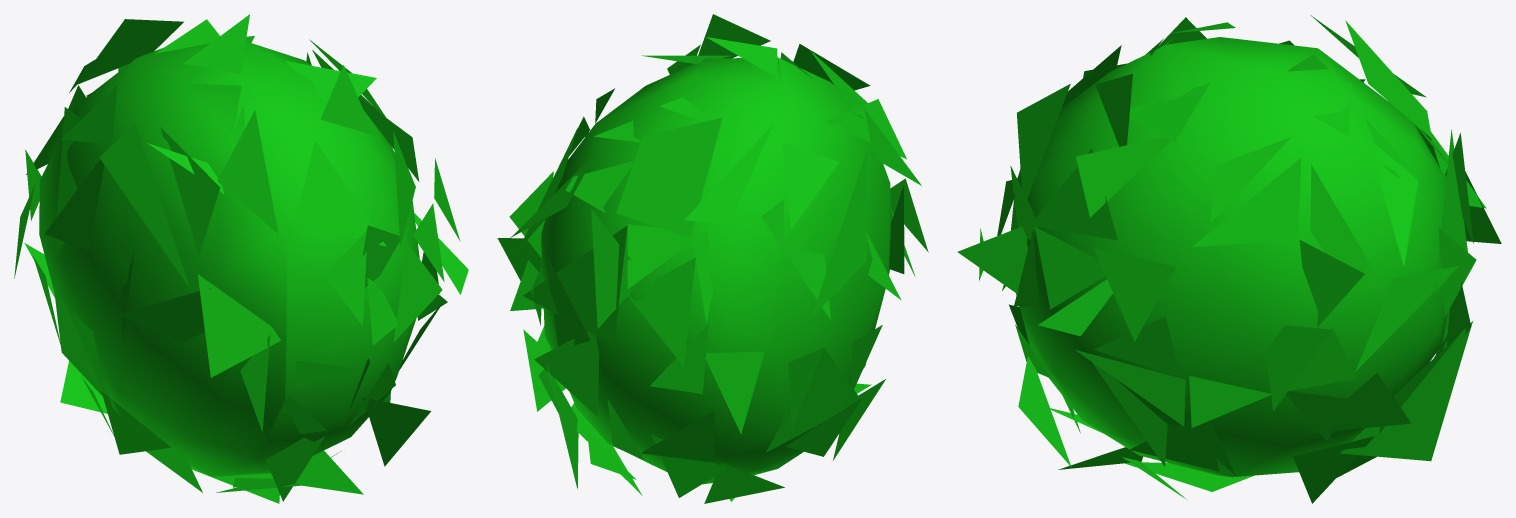
Rendered from bush_005.fbx.
The picture shows the model from 3 angles, left to right: view 1: azimuth 30°, elevation 25°; view 2: azimuth 150°, elevation 25°; view 3: azimuth 270°, elevation 25°; orthographic projection. The views are drawn at different scales.
Parts seen in each view (by area): view 1: bush.005; view 2: bush.005; view 3: bush.005.
Part boxes in pixels (bbox=[...]): bush.005: bbox=[14, 14, 468, 503]; bush.005: bbox=[497, 14, 928, 503]; bush.005: bbox=[957, 15, 1501, 503].
Size of the model in its own units: 186 by 239 by 255.
